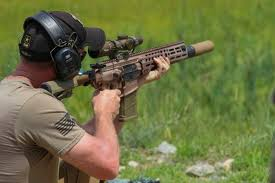gun: (113, 33, 217, 123)
